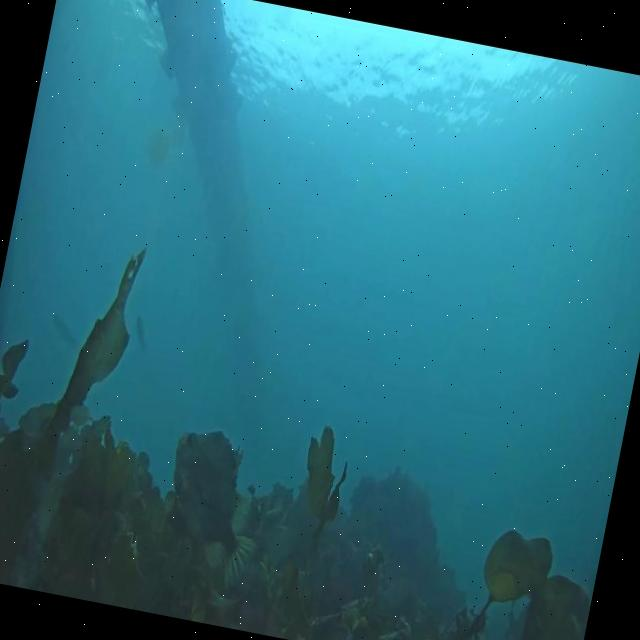fish: (151, 424, 274, 592), (45, 312, 84, 354), (128, 311, 154, 356)
